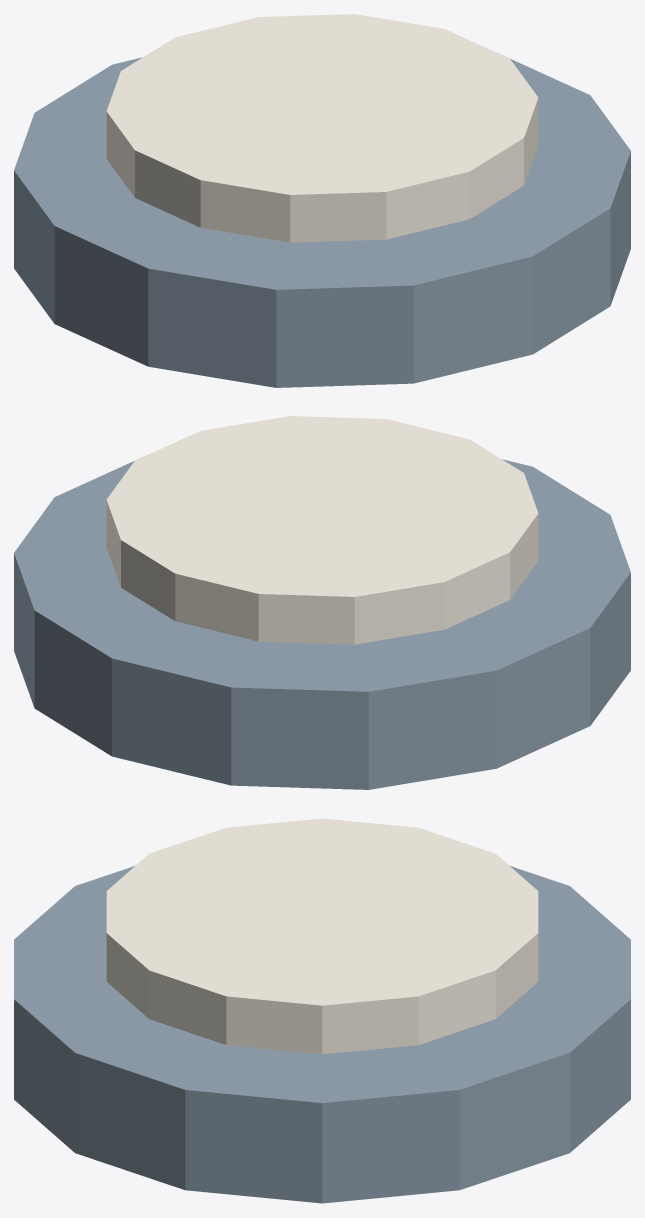
The model's file is Node_Marker.glb.
The picture shows the model from 3 angles, top to bottom: view 1: azimuth 30°, elevation 25°; view 2: azimuth 150°, elevation 25°; view 3: azimuth 270°, elevation 25°; orthographic projection. The views are drawn at different scales.
Visible parts, largest first — view 1: world, core_1; view 2: world, core_1; view 3: world, core_1.
Boxes of the visible parts, x1,y1,x2,y2 form: world: [14, 54, 630, 387]; core_1: [106, 14, 538, 242]; world: [14, 456, 630, 789]; core_1: [106, 416, 538, 644]; world: [14, 865, 630, 1203]; core_1: [106, 818, 538, 1054].
Size of the model in its own units: 0.2 by 0.055 by 0.195.
